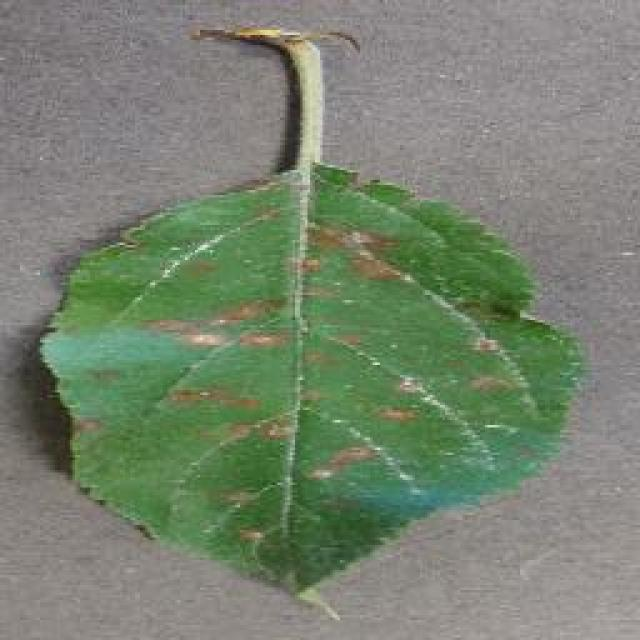Apple___Cedar_apple_rust: (31, 149, 592, 624)
